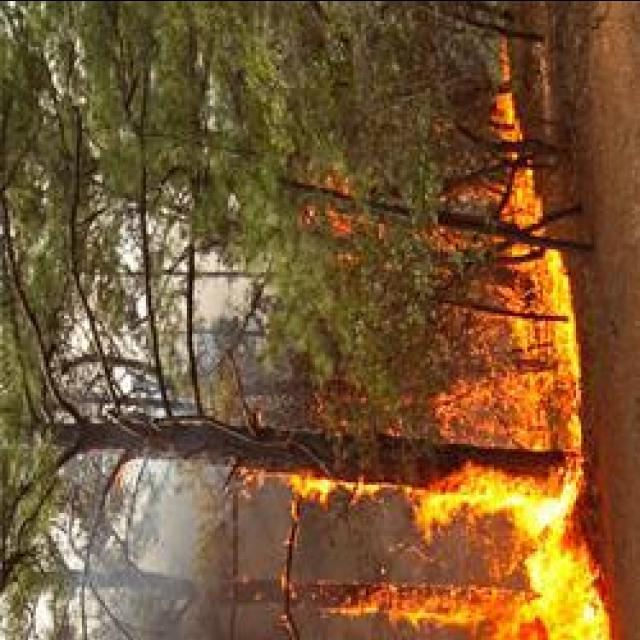fire: (508, 477, 600, 631), (403, 461, 544, 531), (550, 252, 576, 384)
